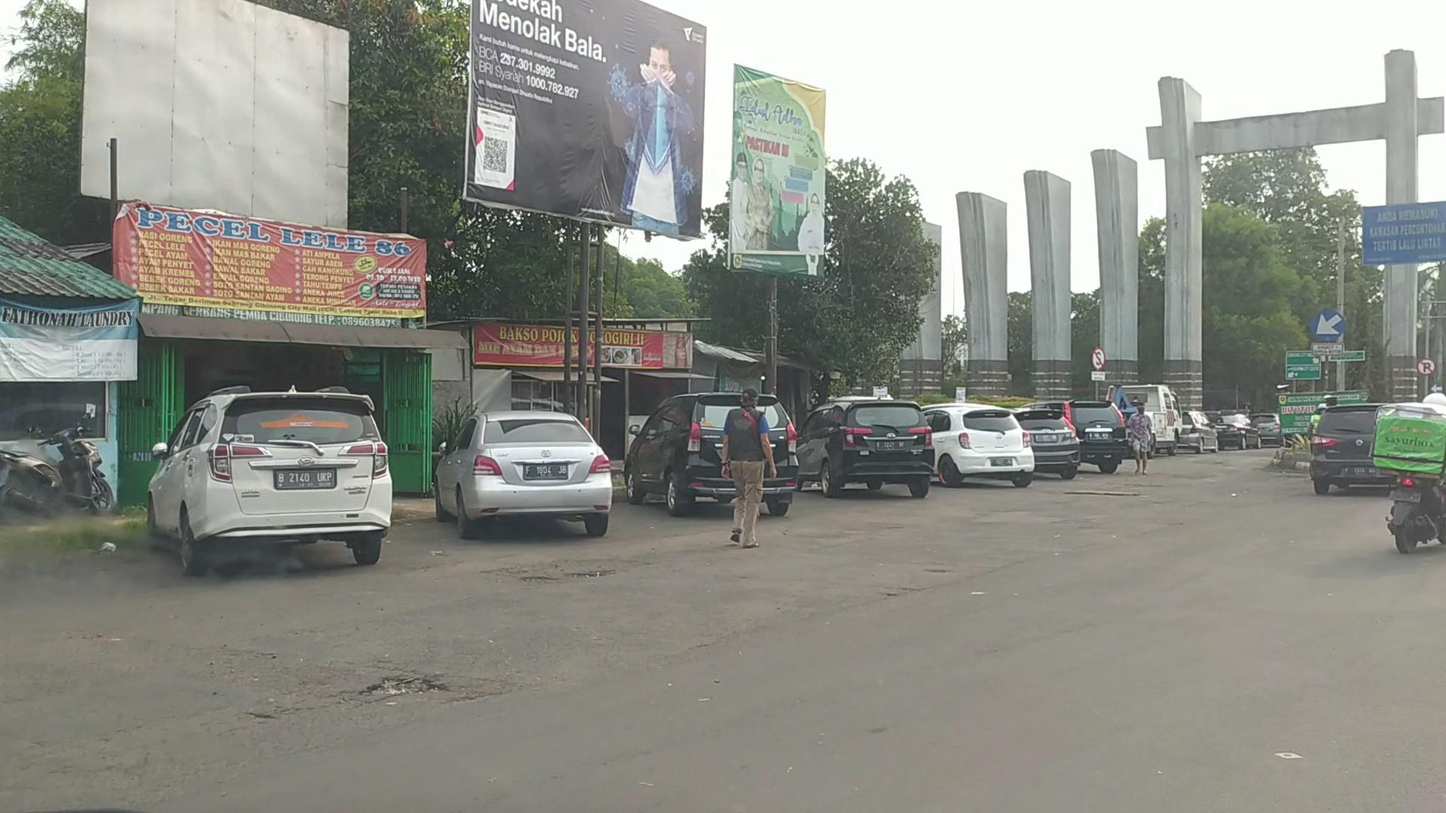pothole: (357, 671, 450, 696), (560, 569, 612, 581), (516, 574, 558, 585)
